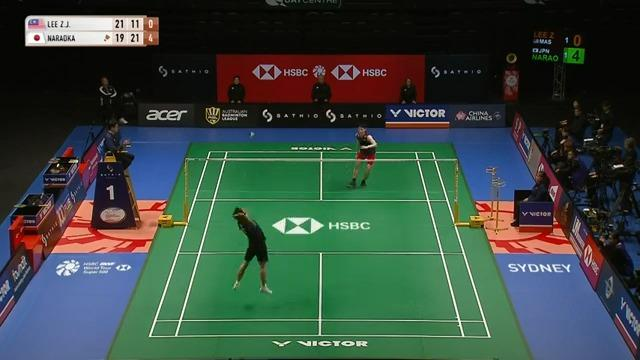Shuttlecock: (248, 130, 258, 140)
